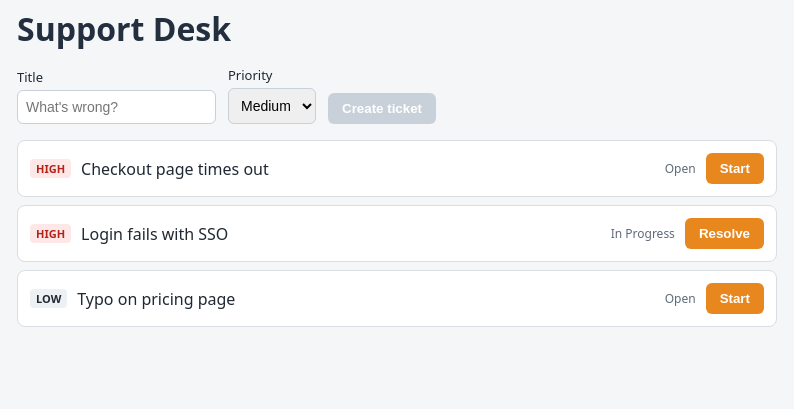
Test: <App /> › adds a newly created ticket to the top of the list
Expected: the text "Checkout page times out" is shown, [81,158,269,180]
Step 1. Type "Search bar is slow" into the field labelled "Title" → coordinates (116, 107), box [17,90,216,124]
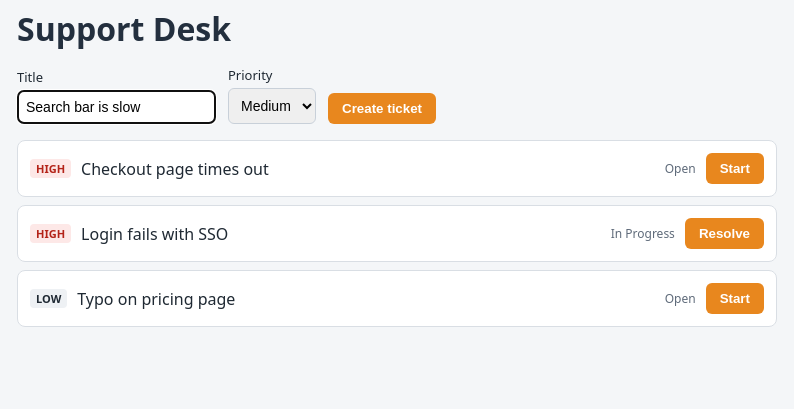
Step 2. Select "High" in the dropdown labelled "Priority" → coordinates (272, 106), box [228,88,316,124]
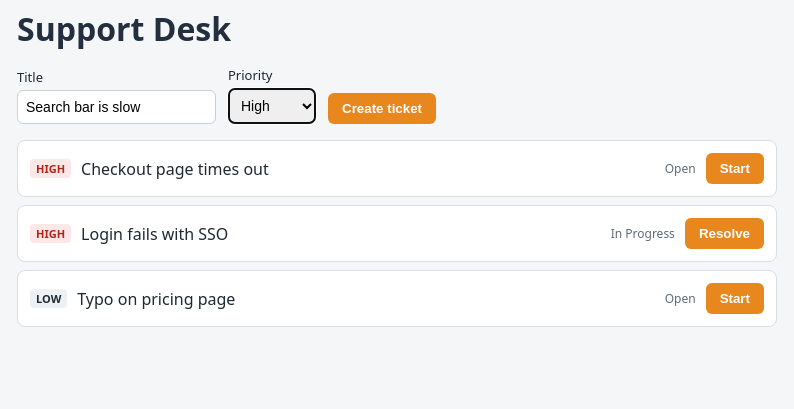
Step 3. Click the button "Create ticket" → coordinates (382, 108), box [328,93,436,124]
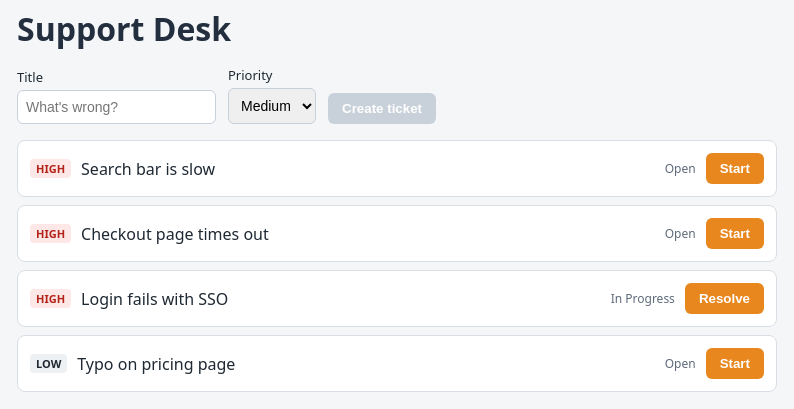
Expected: the number of list items is 4, [17,140,777,197]; [17,205,777,262]; [17,270,777,327]; [17,335,777,392]
Expected: the text "Search bar is slow" is shown, [81,158,215,180]
Expected: the field labelled "Title" is empty, [17,90,216,124]
